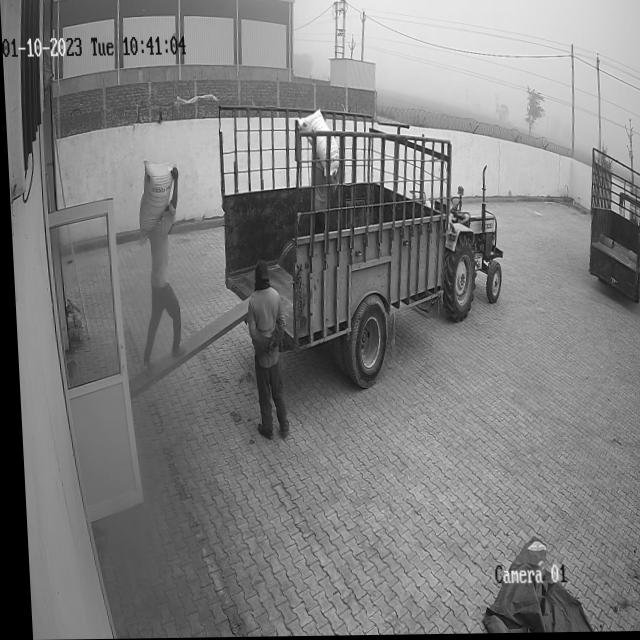sack: (133, 160, 175, 247)
